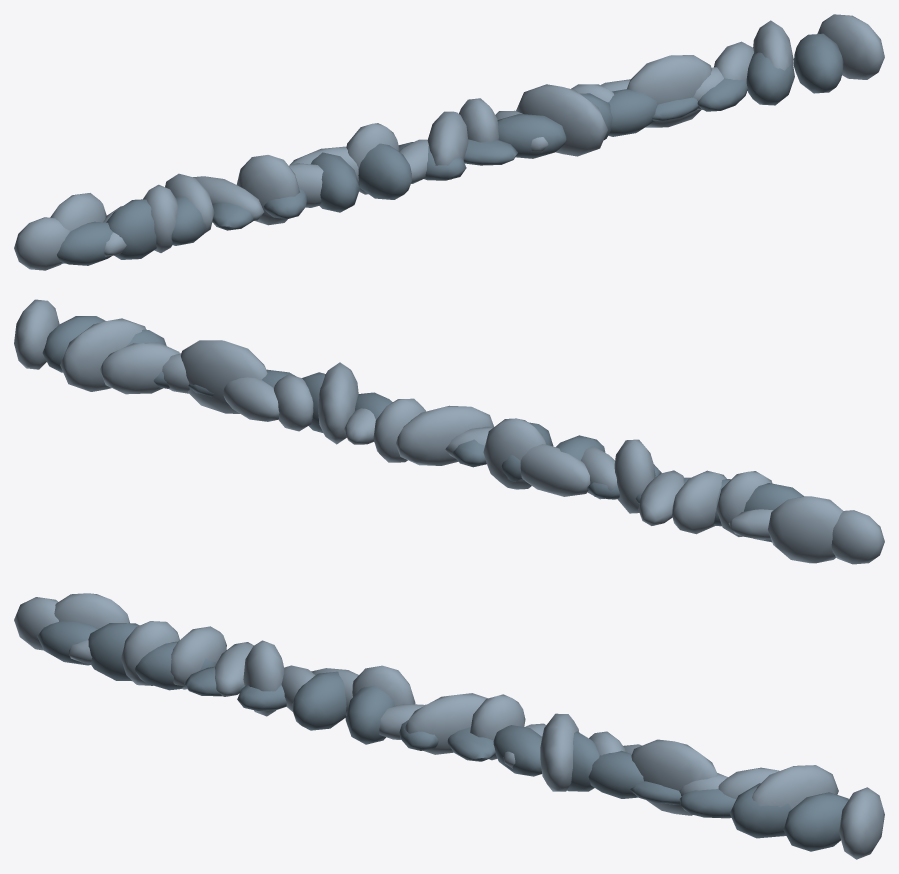
Rendered from horizon_cliffs.glb.
3 renders of one model, top to bottom at view 1: azimuth 30°, elevation 25°; view 2: azimuth 150°, elevation 25°; view 3: azimuth 330°, elevation 25°, orthographic.
Visible parts, largest first — view 1: ASSET_horizon_cliffs; view 2: ASSET_horizon_cliffs; view 3: ASSET_horizon_cliffs.
Boxes of the visible parts, left/top/right/bottom form: ASSET_horizon_cliffs: left=14, top=14, right=884, bottom=270; ASSET_horizon_cliffs: left=14, top=299, right=884, bottom=564; ASSET_horizon_cliffs: left=14, top=593, right=884, bottom=859.
Bounding box in the file's own units: 700 × 56 × 84.53.
